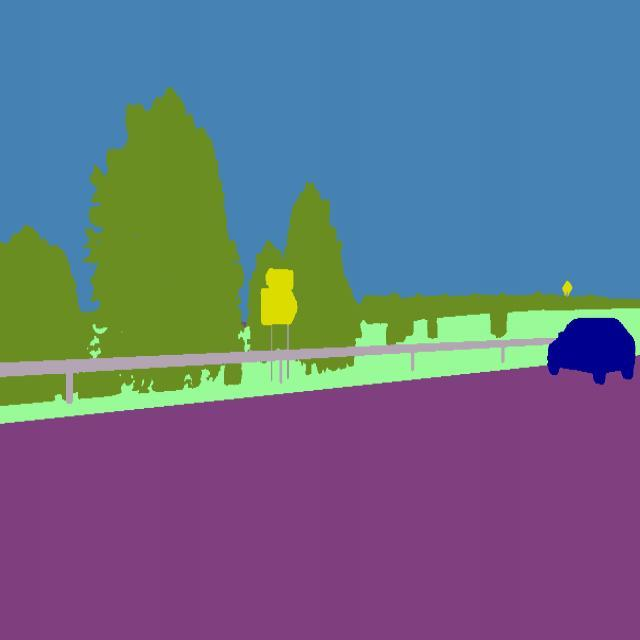safe: (546, 306, 637, 390)
